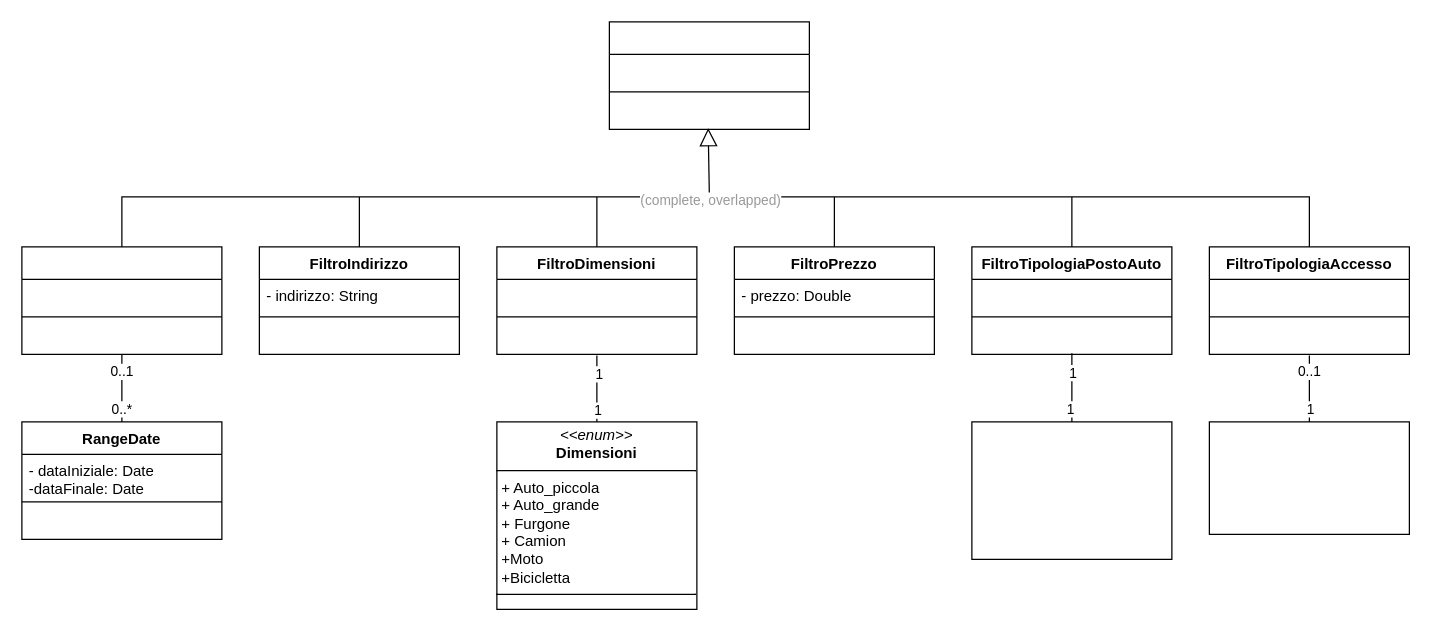
This 1431x631 diagram has some shape labels left out. The shapes that lost their labels are listed below. From the top down, each one's centre as x and y in pixels, then its label:
At point (708, 75): "FiltroDiRicerca".
At point (121, 300): "FiltroDate".
At point (1071, 490): "<<enum>> TipologiaPostoAuto + Al_chiuso + Outdoor_Coperto + Outdoor_Scoperto".
At point (1308, 477): "<<enum>> TipologiaAccesso + Codice + Chiave".
